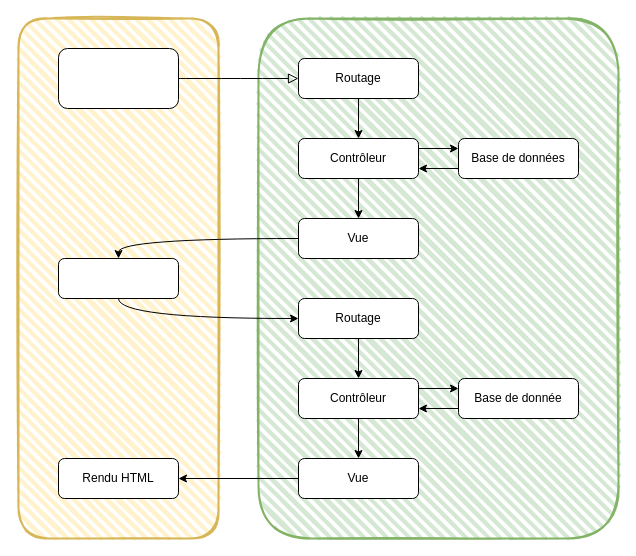
This 636x556 diagram has some shape labels left out. The shapes that lost their labels are listed below. From the top down, each one's box as (x1, y1, x2, y2) in pixels, then its label:
(58, 48, 178, 108): L'utilisateur soumet le formulaire (retour IU)
(17, 17, 219, 539): Client
(58, 258, 178, 298): Redirection (retour IU)
(257, 17, 619, 539): Serveur
